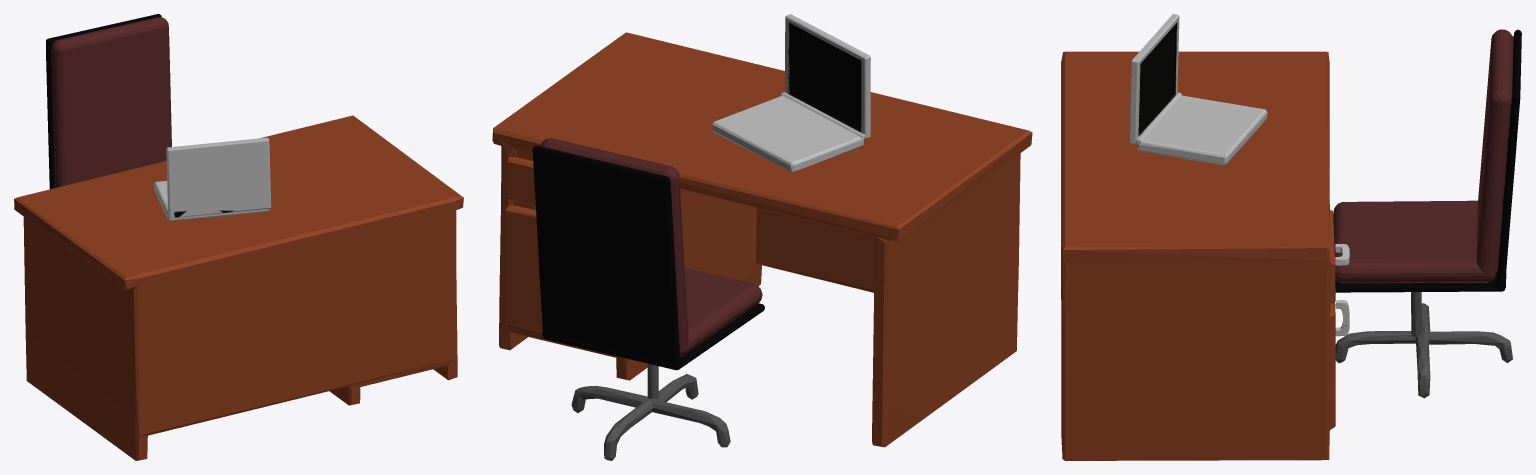
File: schreibtischMitStuhl.glb
The picture shows the model from 3 angles, left to right: view 1: azimuth 30°, elevation 25°; view 2: azimuth 150°, elevation 25°; view 3: azimuth 270°, elevation 25°; orthographic projection. The views are drawn at different scales.
Visible parts, largest first — view 1: 282367_23_05_24_18_12_22_3, 282318_23_05_24_17_51_35_0, 282297_23_05_24_17_32_28_1; view 2: 282367_23_05_24_18_12_22_3, 282318_23_05_24_17_51_35_0, 282297_23_05_24_17_32_28_1, 282318_23_05_24_17_51_35_1; view 3: 282367_23_05_24_18_12_22_3, 282318_23_05_24_17_51_35_0, 282297_23_05_24_17_32_28_1, 282318_23_05_24_17_51_35_1.
Part boxes in pixels (<box>): 282367_23_05_24_18_12_22_3: <box>14,115,463,460</box>; 282318_23_05_24_17_51_35_0: <box>46,14,171,189</box>; 282297_23_05_24_17_32_28_1: <box>153,137,271,220</box>; 282367_23_05_24_18_12_22_3: <box>492,32,1032,447</box>; 282318_23_05_24_17_51_35_0: <box>532,138,764,398</box>; 282297_23_05_24_17_32_28_1: <box>712,14,870,171</box>; 282318_23_05_24_17_51_35_1: <box>571,374,730,460</box>; 282367_23_05_24_18_12_22_3: <box>1061,51,1335,460</box>; 282318_23_05_24_17_51_35_0: <box>1333,29,1521,337</box>; 282297_23_05_24_17_32_28_1: <box>1129,14,1267,165</box>; 282318_23_05_24_17_51_35_1: <box>1335,303,1512,398</box>.
Size of the model in its own units: 8.54 by 6.3 by 8.39.
6 materials, 6 textured.
